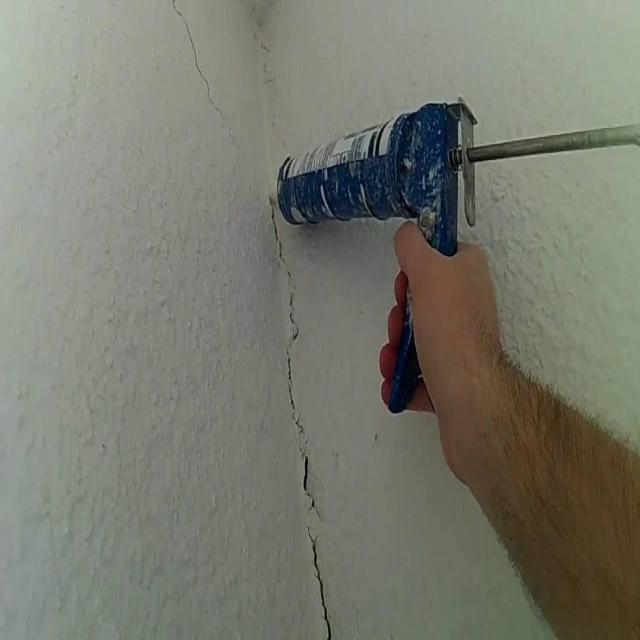crack: (265, 190, 316, 509), (172, 4, 223, 117), (311, 536, 331, 638)
